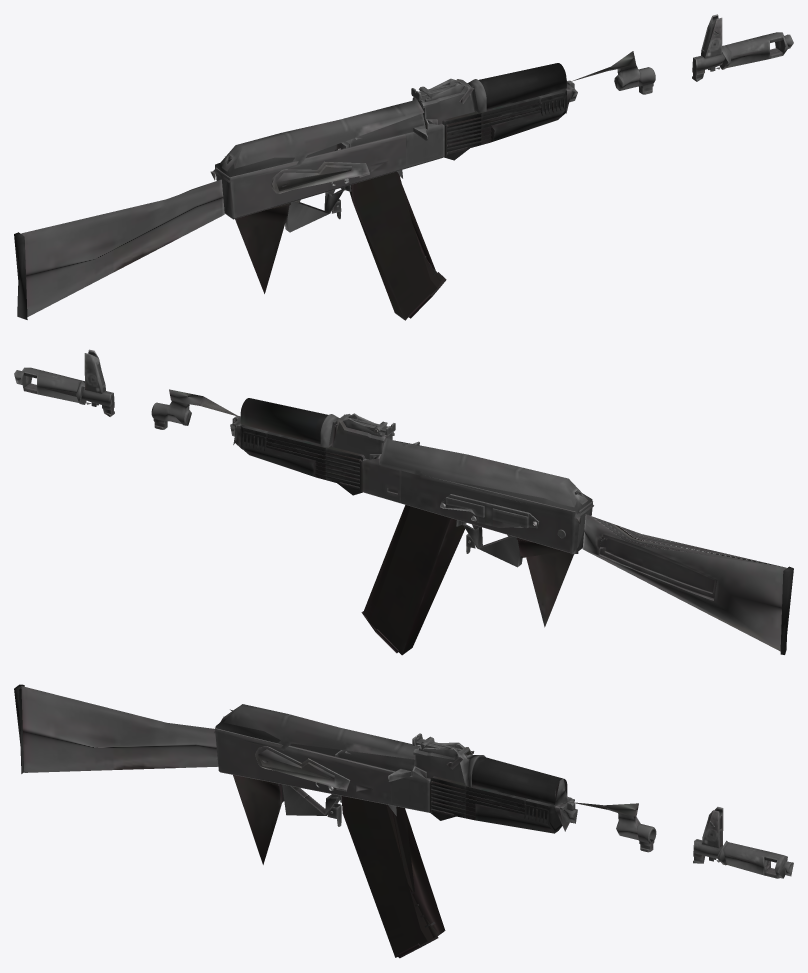
3 renders of one model, top to bottom at view 1: azimuth 30°, elevation 25°; view 2: azimuth 150°, elevation 25°; view 3: azimuth 330°, elevation 25°, orthographic.
Visible parts, largest first — view 1: base, mag, safety, bolt; view 2: base, mag; view 3: base, mag, safety, bolt.
Part boxes in pixels (x1,y1,x2,y2): base: (14,14,793,319); mag: (340,171,446,320); safety: (271,161,369,193); bolt: (335,113,427,150); base: (14,349,793,654); mag: (361,505,466,655); base: (14,684,793,878); mag: (339,795,445,958); safety: (255,746,350,791); bolt: (335,750,415,781).
Bounding box in the file's own units: 0.9426 × 0.2591 × 0.0647.
Materials: 1 (1 with a texture image).
